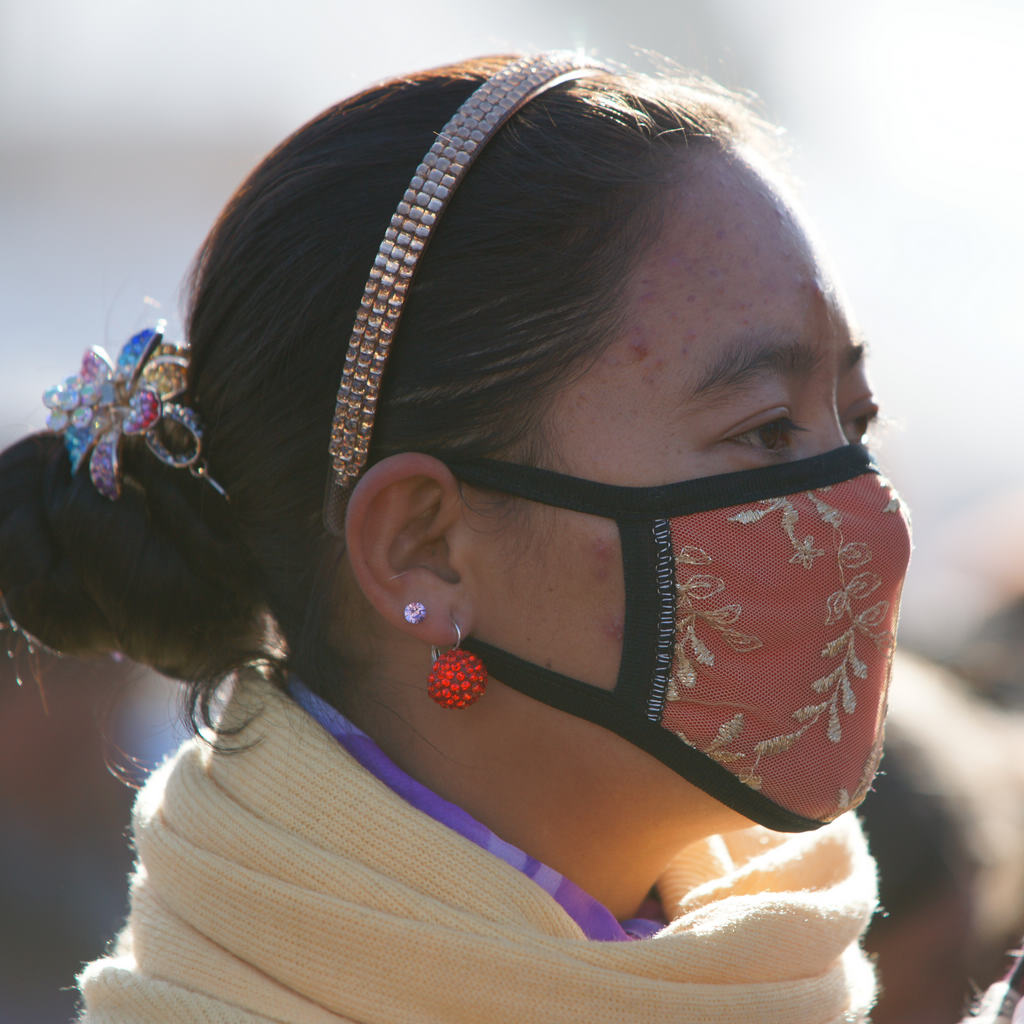face_mask: (490, 184, 902, 800)
